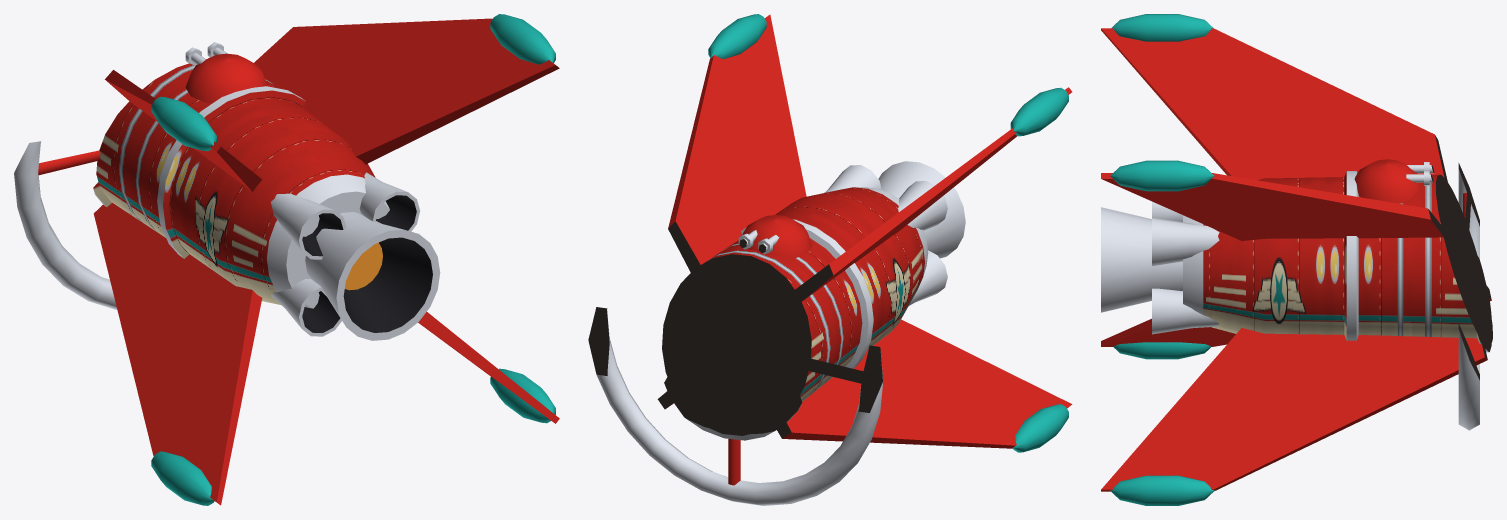
Rendered from victory_debris5.obj.
3 renders of one model, left to right at view 1: azimuth 30°, elevation 25°; view 2: azimuth 150°, elevation 25°; view 3: azimuth 270°, elevation 25°, orthographic. The views are drawn at different scales.
Visible parts, largest first — view 1: hull, fin225, fin45, bell, fintip, bell_s, collar, turret, fin315, fin135, collar_strut; view 2: hull, fin45, fin225, collar, fintip, fin315, bell_s, bell, turret, collar_strut; view 3: hull, fin135, fin315, fin45, fintip, bell, bell_s, collar, turret, fin225.
Boxes of the visible parts, x1=… form: hull: x1=93, y1=59, x2=389, y2=308; fin225: x1=93, y1=202, x2=262, y2=505; fin45: x1=254, y1=18, x2=559, y2=164; bell: x1=305, y1=212, x2=440, y2=340; fintip: x1=151, y1=14, x2=555, y2=505; bell_s: x1=271, y1=172, x2=419, y2=336; collar: x1=14, y1=141, x2=117, y2=309; turret: x1=185, y1=53, x2=267, y2=103; fin315: x1=105, y1=70, x2=262, y2=191; fin135: x1=418, y1=312, x2=559, y2=423; collar_strut: x1=38, y1=150, x2=100, y2=175; hull: x1=662, y1=187, x2=928, y2=440; fin45: x1=668, y1=14, x2=806, y2=278; fin225: x1=766, y1=319, x2=1072, y2=448; collar: x1=588, y1=307, x2=882, y2=505; fintip: x1=708, y1=14, x2=1068, y2=452; fin315: x1=785, y1=87, x2=1072, y2=309; bell_s: x1=824, y1=165, x2=947, y2=305; bell: x1=878, y1=161, x2=965, y2=258; turret: x1=738, y1=215, x2=812, y2=258; collar_strut: x1=728, y1=358, x2=868, y2=485; hull: x1=1183, y1=171, x2=1492, y2=352; fin135: x1=1101, y1=328, x2=1487, y2=491; fin315: x1=1101, y1=28, x2=1450, y2=194; fin45: x1=1101, y1=173, x2=1445, y2=240; fintip: x1=1110, y1=14, x2=1214, y2=505; bell: x1=1101, y1=207, x2=1182, y2=312; bell_s: x1=1152, y1=201, x2=1219, y2=334; collar: x1=1458, y1=163, x2=1479, y2=430; turret: x1=1354, y1=159, x2=1421, y2=203; fin225: x1=1101, y1=278, x2=1491, y2=346.
Size of the model in its own units: 36.84 by 36.98 by 38.32.
7 materials, 1 textured.
